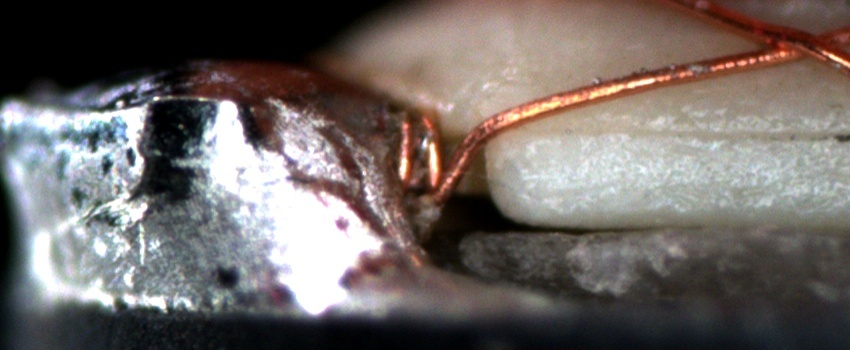CL: (744, 18, 836, 72)
DL: (529, 99, 850, 163)
TE: (389, 100, 471, 217)
